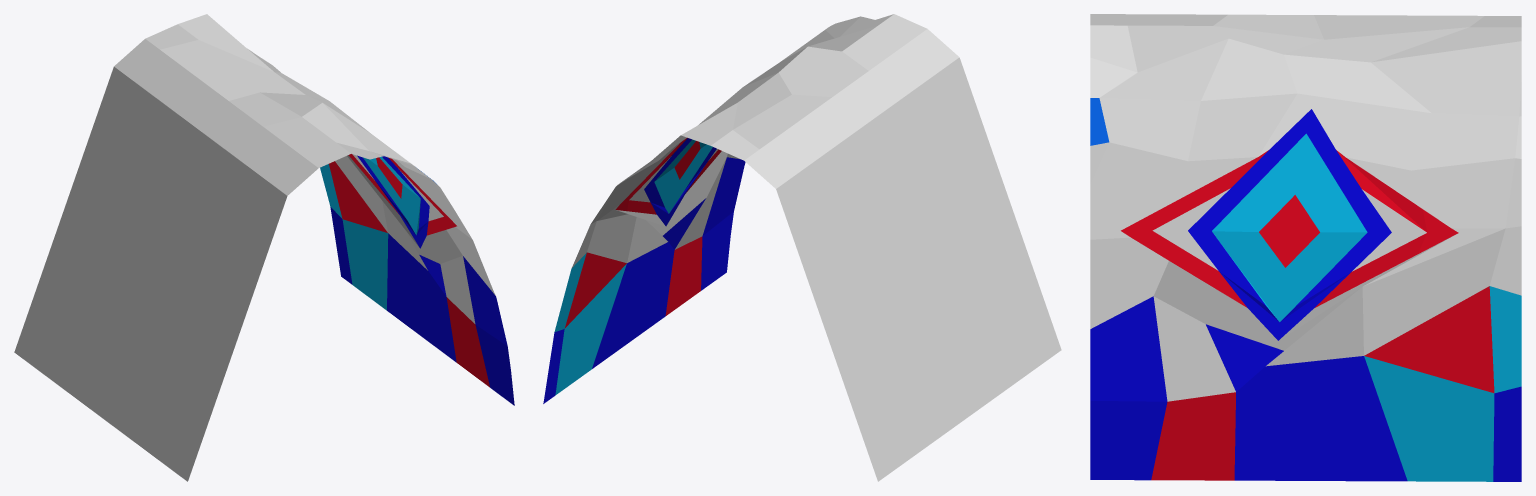
Rendered from Forma3.fbx.
The picture shows the model from 3 angles, left to right: view 1: azimuth 30°, elevation 25°; view 2: azimuth 150°, elevation 25°; view 3: azimuth 270°, elevation 25°; orthographic projection. The views are drawn at different scales.
Visible parts, largest first — view 1: Forma3; view 2: Forma3; view 3: Forma3.
Boxes of the visible parts, left/top/right/bottom form: Forma3: left=14, top=14, right=514, bottom=481; Forma3: left=543, top=14, right=1061, bottom=481; Forma3: left=1090, top=14, right=1521, bottom=481.
Bounding box in the file's own units: 93.81 × 80.3 × 86.95.
